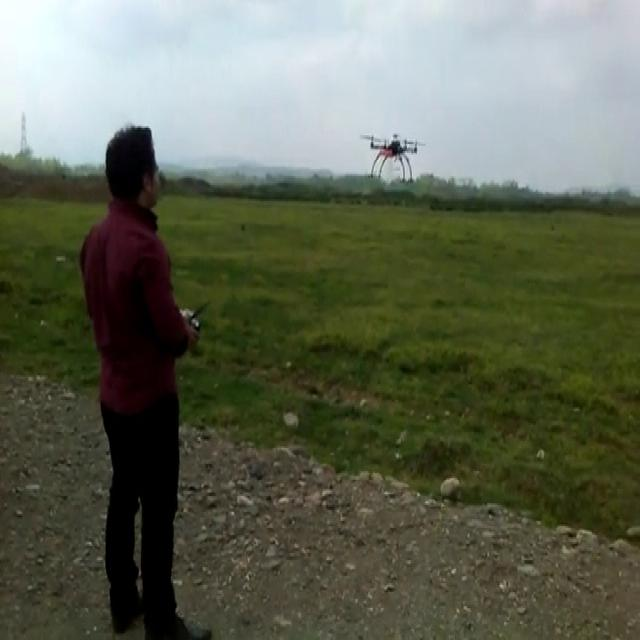drone: (358, 128, 427, 181)
